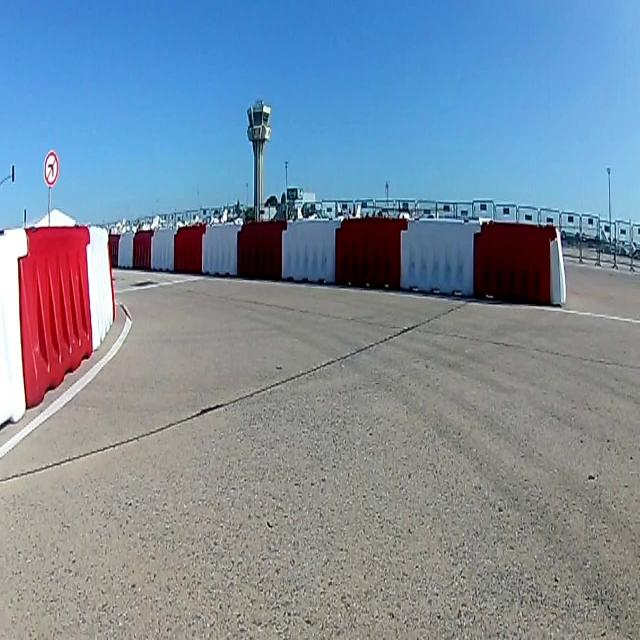soladonulmez: (44, 151, 58, 186)
